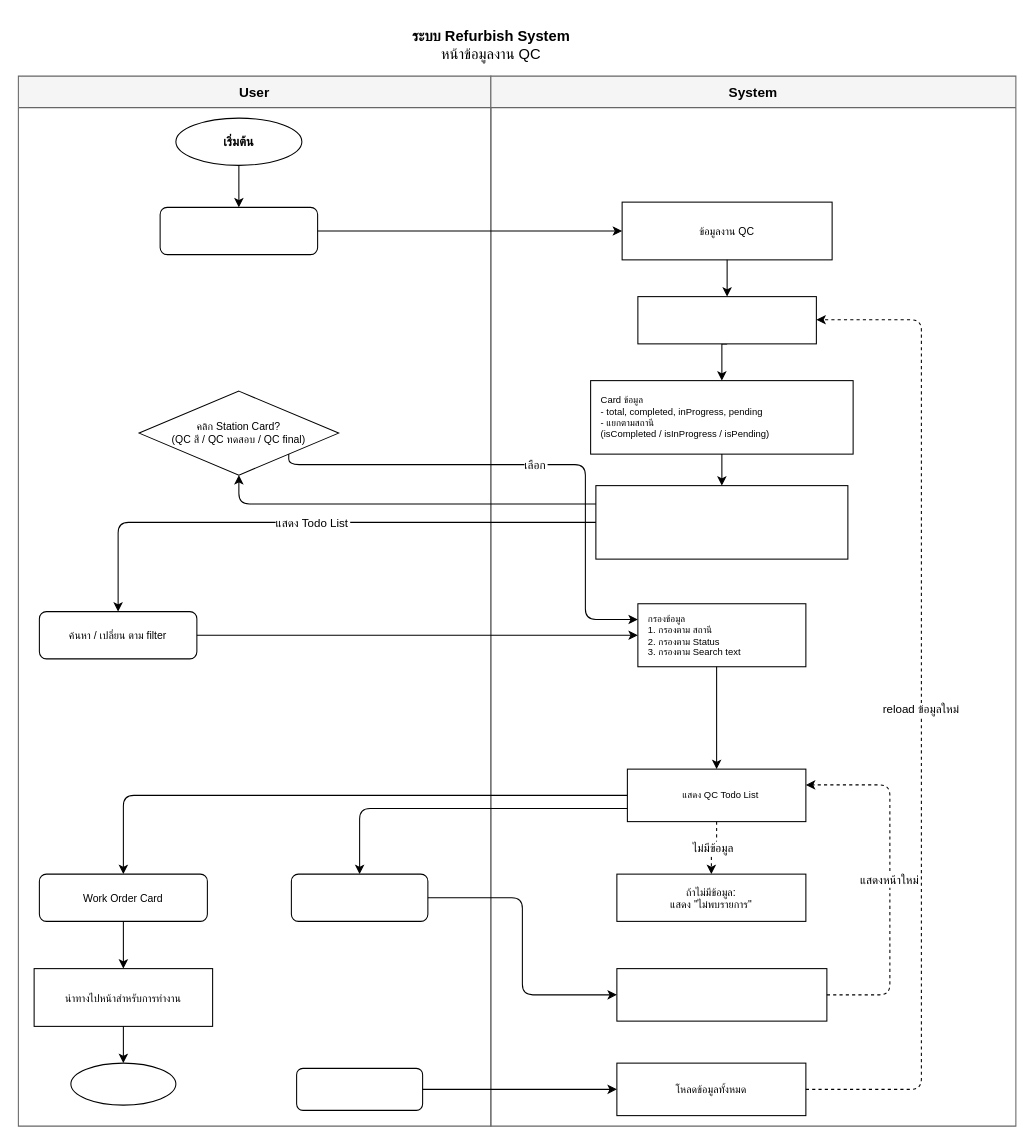
The diagram is 1034 pixels wide and 1145 high, and some of its shapes have lost their labels. Here are the shapes that lost their labels. From the top down, the box of each, then its label:
(159, 206, 318, 255): เข้าหน้า QC Dashboard
(637, 296, 816, 344): รับ Response
(595, 485, 848, 559): แสดง 3 Station Cards • QC สี • QC ทดสอบ • QC final
(290, 873, 428, 921): เปลี่ยนหน้า
(616, 968, 827, 1021): โหลดข้อมูลอีกหน้าถัดไป
(70, 1062, 176, 1105): จบ
(296, 1067, 423, 1110): Refresh
